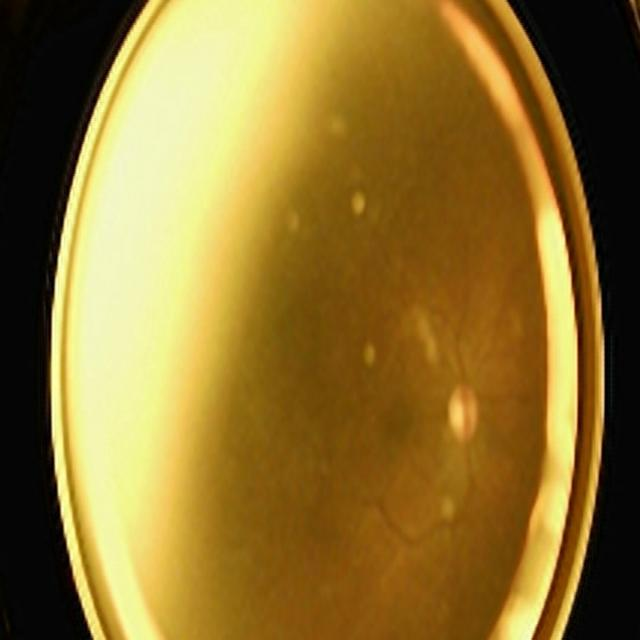optic-nerve: (426, 336, 502, 482)
